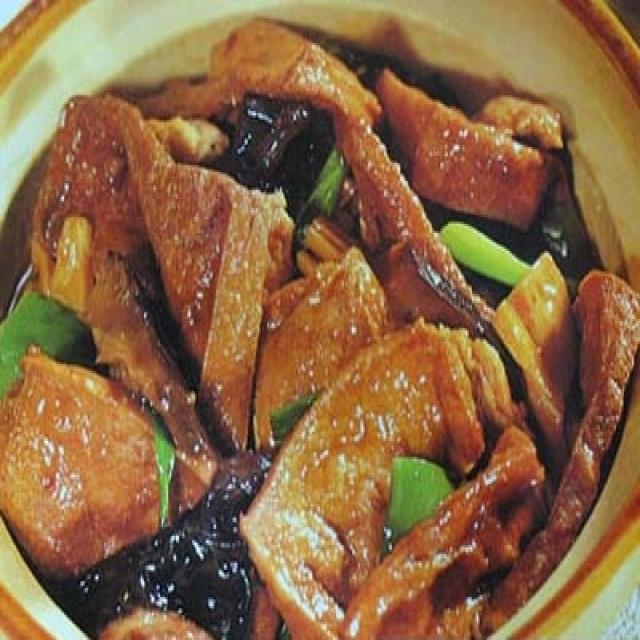豆腐料理: (8, 16, 624, 620)
